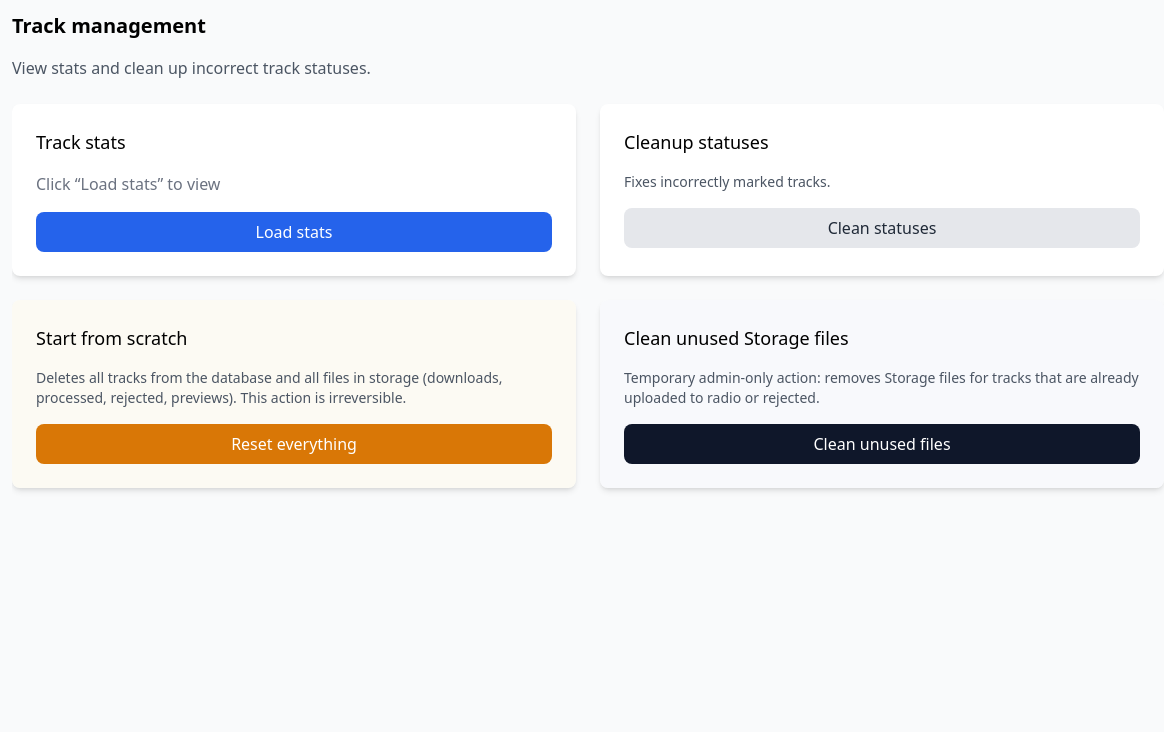
Scenario: TrackManager › shows cleanup uploaded_radio action for admins
This screenshot has width=1164, height=732.
Click the button "Clean unused files".
click(882, 444)  # box [624, 424, 1140, 464]
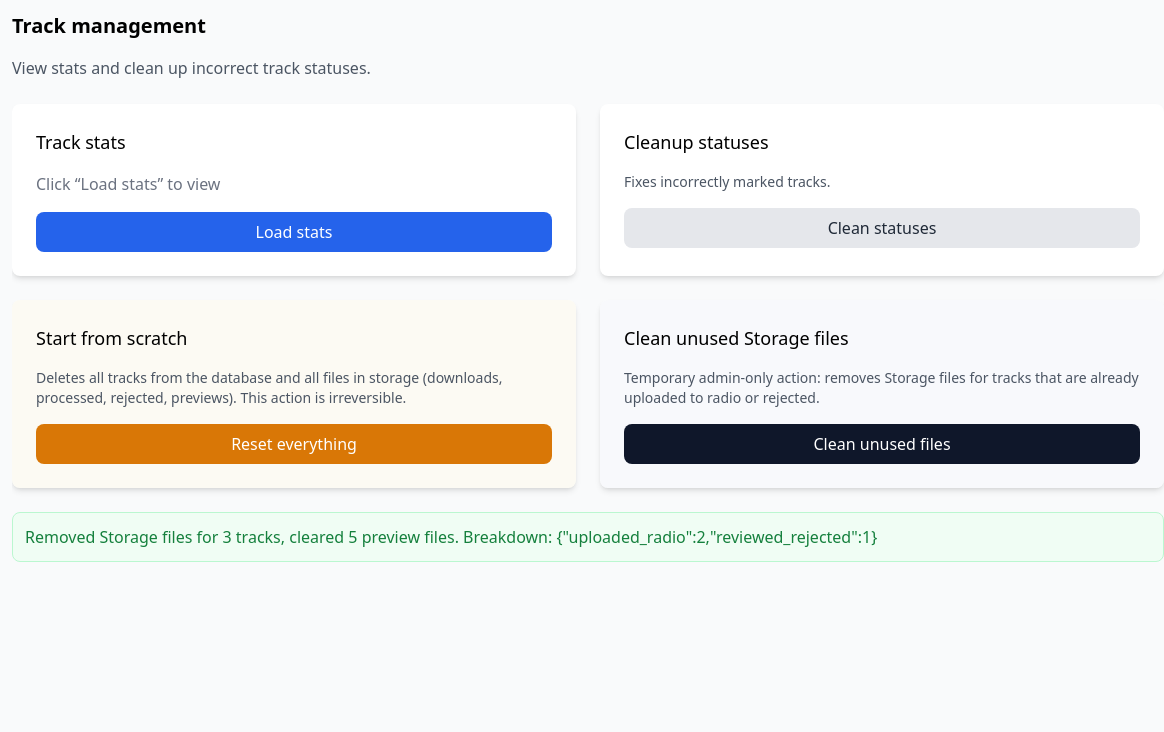
Expected: the text "Removed Storage files for 3 tracks, cleared 5 preview files. Breakdown: {\"uploaded_radio\":2,\"reviewed_rejected\":1}" is shown, [25, 526, 877, 548]
